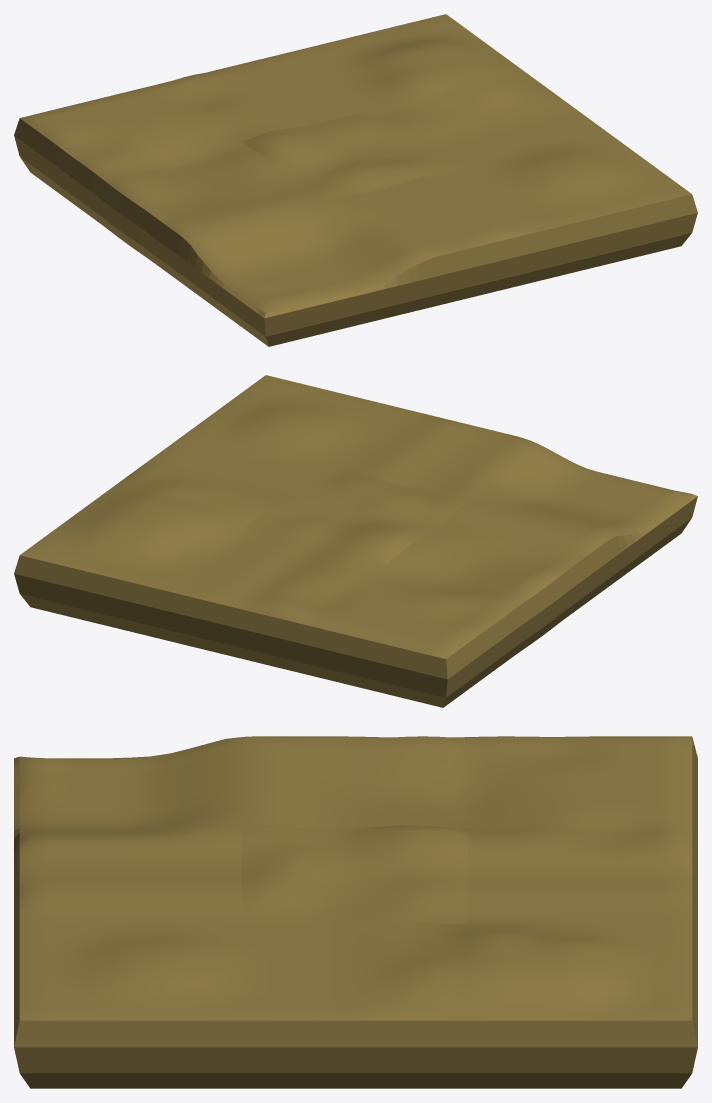
The model's file is Ground2.fbx.
3 views of the same model, one above another, from view 1: azimuth 30°, elevation 25°; view 2: azimuth 150°, elevation 25°; view 3: azimuth 270°, elevation 25° (orthographic). The views are drawn at different scales.
Visible parts, largest first — view 1: Ground6_Ground5; view 2: Ground6_Ground5; view 3: Ground6_Ground5.
Boxes of the visible parts, box(x1,y1,x2,y2) form: Ground6_Ground5: box(14, 14, 697, 346); Ground6_Ground5: box(14, 375, 697, 707); Ground6_Ground5: box(14, 736, 697, 1088).
Bounding box in the file's own units: 36 × 5.29 × 36.
